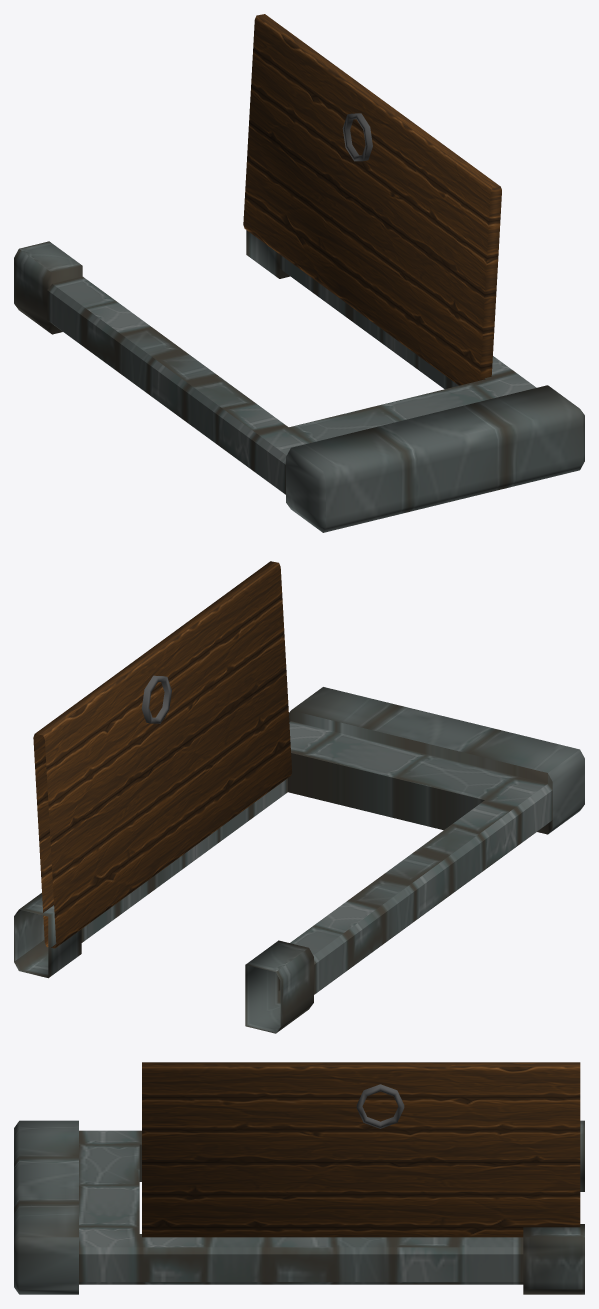
The model's file is Stone_Wall_Door_Open.gltf.
The picture shows the model from 3 angles, top to bottom: view 1: azimuth 30°, elevation 25°; view 2: azimuth 150°, elevation 25°; view 3: azimuth 270°, elevation 25°; orthographic projection. The views are drawn at different scales.
Visible parts, largest first — view 1: StoneWall_doorway_open; view 2: StoneWall_doorway_open; view 3: StoneWall_doorway_open.
Part boxes in pixels (x1,y1,x2,y2): StoneWall_doorway_open: [14, 14, 584, 532]; StoneWall_doorway_open: [14, 561, 584, 1033]; StoneWall_doorway_open: [14, 1062, 584, 1294].
Bounding box in the file's own units: 1 × 0.8567 × 1.99.
3 materials, 2 textured.
